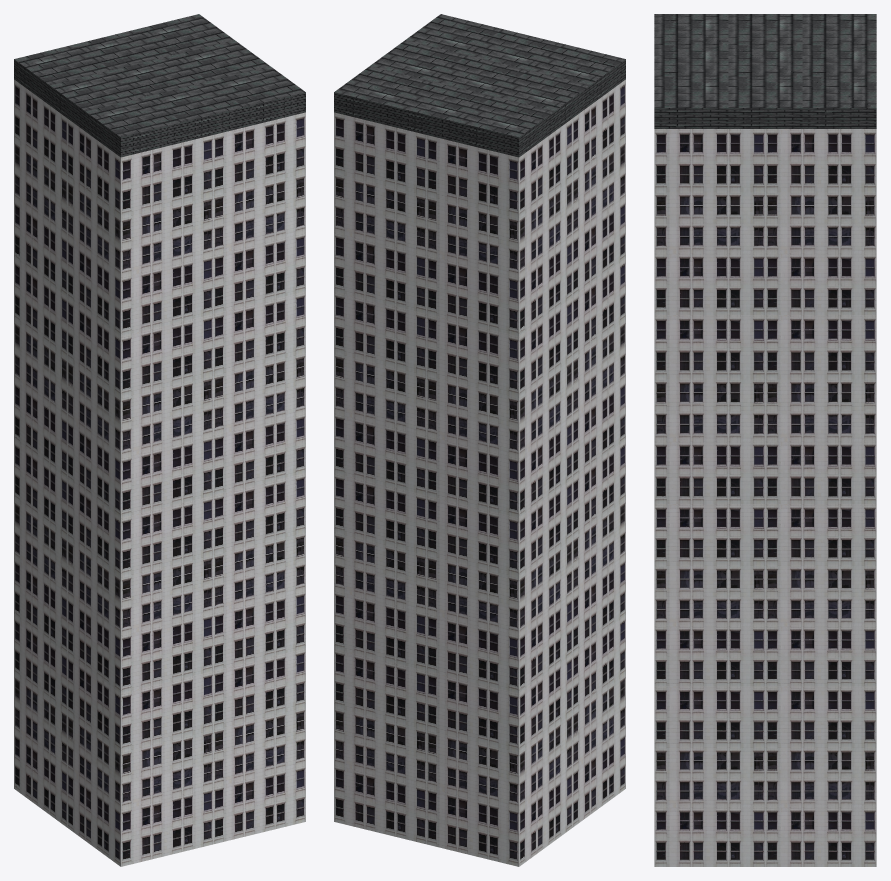
File: 24_Storey_Building_White 1.FBX
The picture shows the model from 3 angles, left to right: view 1: azimuth 30°, elevation 25°; view 2: azimuth 150°, elevation 25°; view 3: azimuth 270°, elevation 25°; orthographic projection. The views are drawn at different scales.
Visible parts, largest first — view 1: Box006; view 2: Box006; view 3: Box006.
Boxes of the visible parts, left/top/right/bottom form: Box006: left=14, top=14, right=305, bottom=866; Box006: left=334, top=14, right=625, bottom=866; Box006: left=654, top=14, right=876, bottom=866.
Bounding box in the file's own units: 35 × 132 × 35.
Materials: 2 (2 with a texture image).
